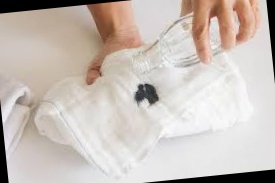ink: (132, 83, 158, 106)
